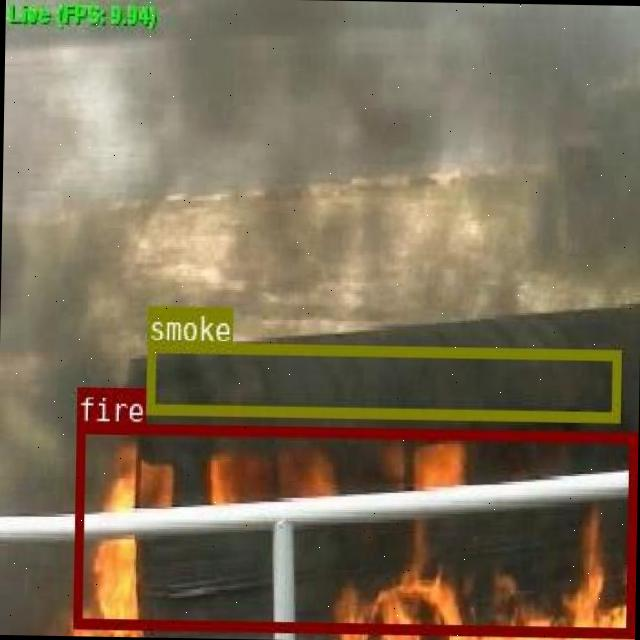fire: (73, 422, 635, 634)
smoke: (146, 340, 618, 419)
